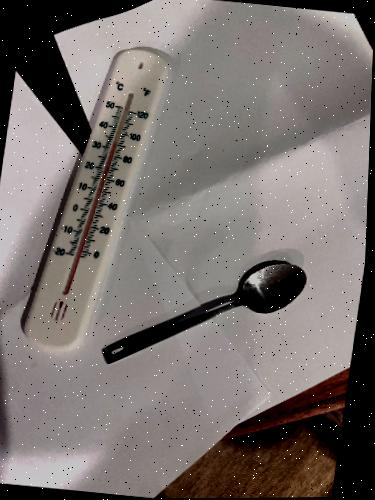thermo: (17, 48, 177, 361)
